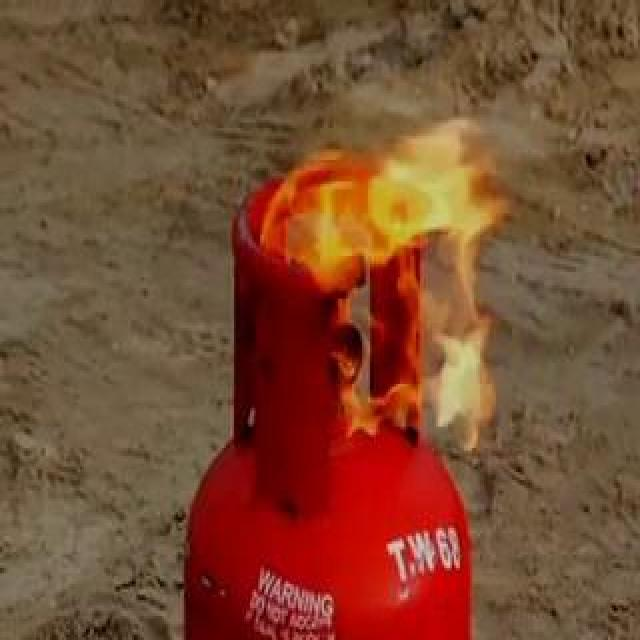Fire: (285, 56, 601, 411)
